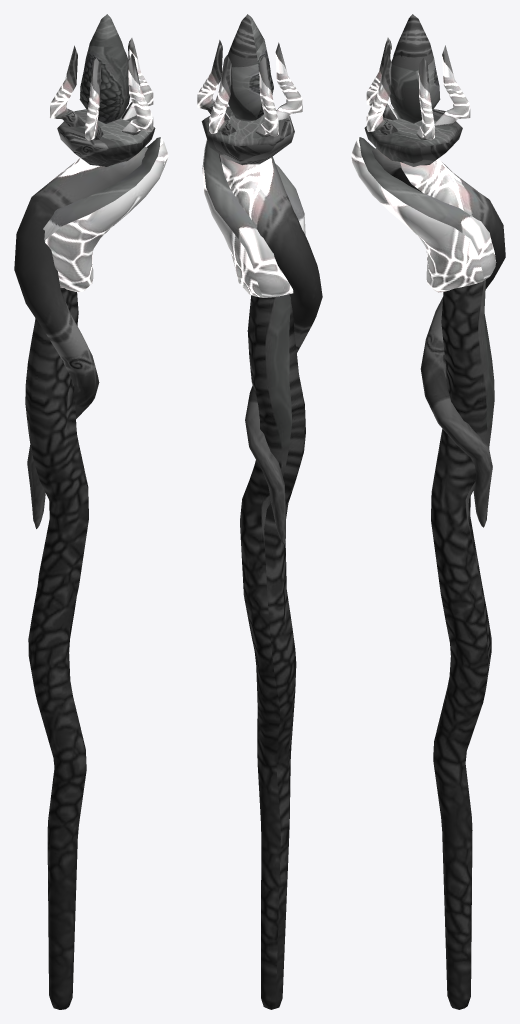
The model's file is miniboss_staff.glb.
3 renders of one model, left to right at view 1: azimuth 90°, elevation 25°; view 2: azimuth 210°, elevation 25°; view 3: azimuth 270°, elevation 25°, orthographic.
Parts seen in each view (by area): view 1: STAFF_02_V2; view 2: STAFF_02_V2; view 3: STAFF_02_V2.
Boxes of the visible parts, x1,y1,x2,y2 form: STAFF_02_V2: (14,14,168,1009); STAFF_02_V2: (197,14,322,1009); STAFF_02_V2: (351,14,505,1009).
Bounding box in the file's own units: 0.1712 × 1.75 × 0.246.
Materials: 1 (1 with a texture image).
